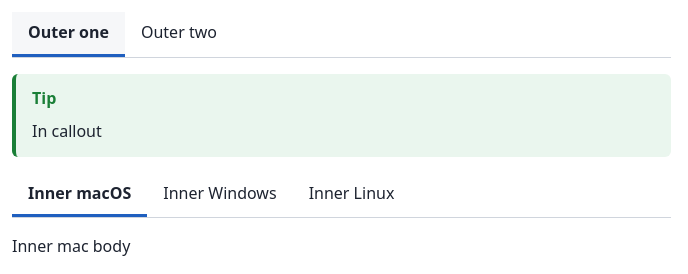
Test: more than one Tabs › works with a Tabs and a Callout inside a Tab
This screenshot has width=688, height=274.
Expected: the text "In callout" is shown, [32,120,102,142]
Click the tab "Inner Linux" at (352, 195), box [293,173,410,217]
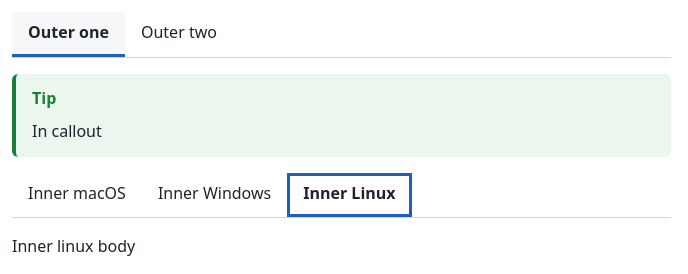
Expected: the tab "Outer one" is shown, [12,12,125,57]
Now the text "Inner linux body" is shown, box [12,235,135,257]
Click the tab "Outer two" at (179, 34), box [125,12,233,57]
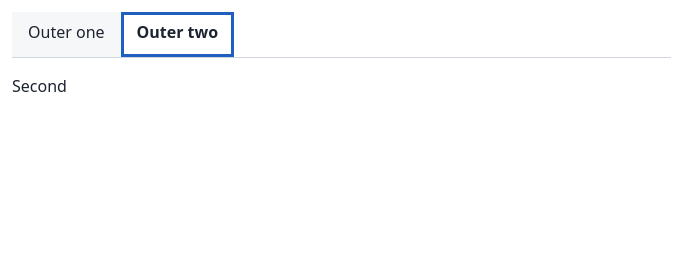
Now the text "Second" is shown, box [12,75,67,97]
